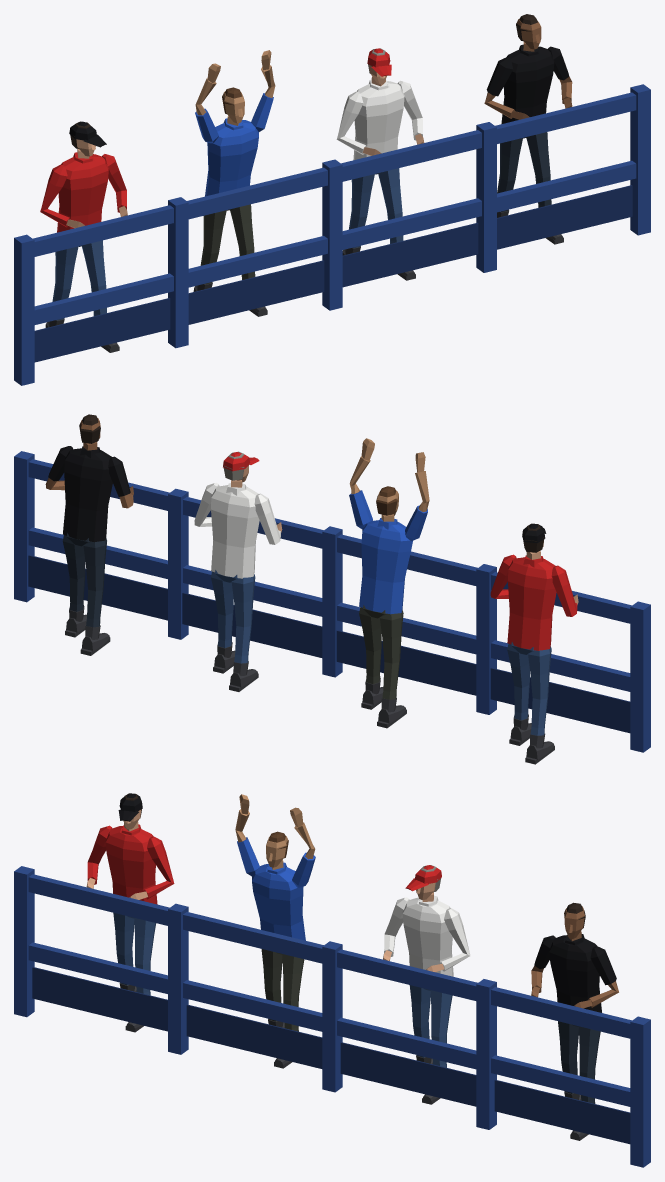
File: fans_fence.glb
3 views of the same model, one above another, from view 1: azimuth 30°, elevation 25°; view 2: azimuth 150°, elevation 25°; view 3: azimuth 330°, elevation 25° (orthographic).
Parts seen in each view (by area): view 1: Fence, Fans; view 2: Fence, Fans; view 3: Fence, Fans.
Part boxes in pixels (x1,y1,x2,y2): Fence: (14,84,650,385); Fans: (40,14,572,352); Fence: (14,451,650,752); Fans: (45,414,578,764); Fence: (14,866,650,1167); Fans: (86,793,618,1140).
Bounding box in the file's own units: 5.31 × 2.08 × 0.6805.
